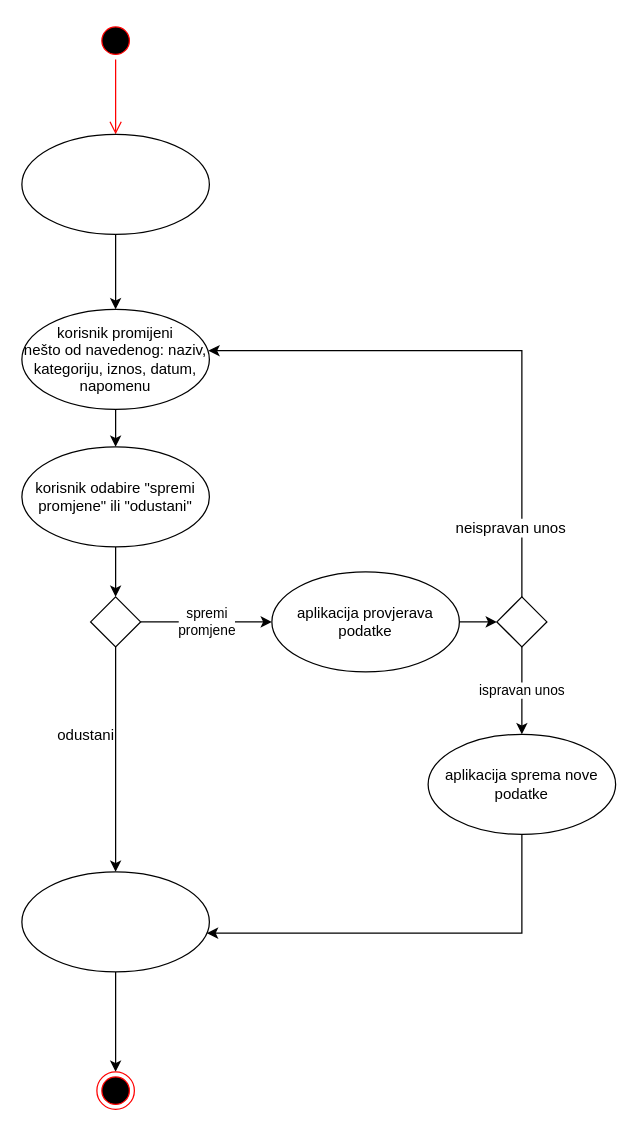
The diagram is 638 pixels wide and 1131 high, and some of its shapes have lost their labels. The centre of each missing label's shape, as x and y in pixels:
"aplikacija prikaže stranicu za uređivanje transakcije" belongs at [115,183].
"aplikacija zatvara stranicu" belongs at [115,921].
